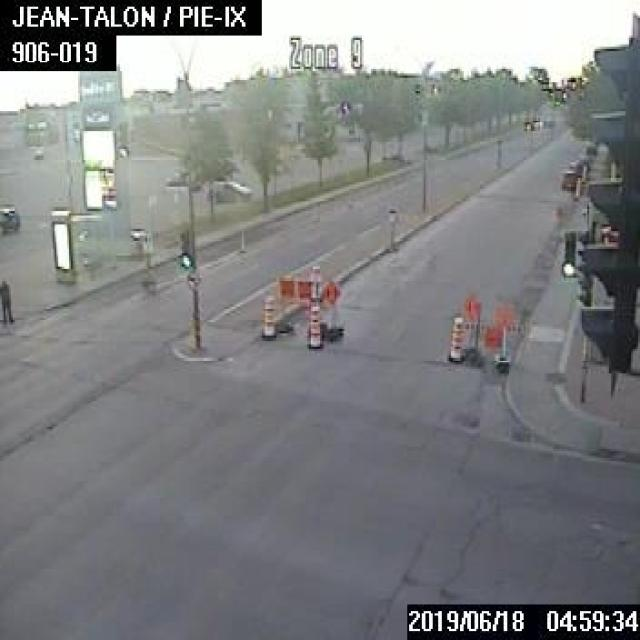construction: (273, 261, 344, 339), (462, 293, 524, 371), (447, 313, 463, 361), (305, 302, 322, 347), (260, 294, 274, 336)
pedestrian: (0, 276, 13, 324)
vehicle: (208, 182, 251, 204), (164, 169, 200, 188), (0, 206, 18, 232), (560, 169, 582, 189), (566, 158, 582, 171), (531, 116, 541, 127), (521, 120, 532, 129)
